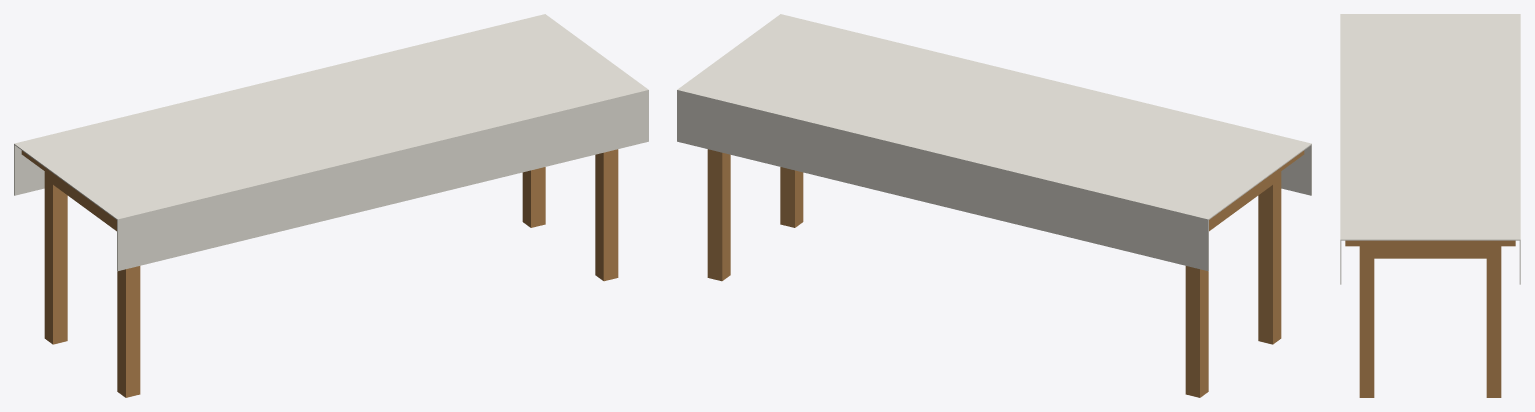
3 views of the same model, side by side, from view 1: azimuth 30°, elevation 25°; view 2: azimuth 150°, elevation 25°; view 3: azimuth 270°, elevation 25° (orthographic). The views are drawn at different scales.
Visible parts, largest first — view 1: parametric-variant-table-2nd-pub-b6a2c291ed095c5d24fb; view 2: parametric-variant-table-2nd-pub-b6a2c291ed095c5d24fb; view 3: parametric-variant-table-2nd-pub-b6a2c291ed095c5d24fb.
Boxes of the visible parts, <box> form: parametric-variant-table-2nd-pub-b6a2c291ed095c5d24fb: <box>14,14,648,397</box>; parametric-variant-table-2nd-pub-b6a2c291ed095c5d24fb: <box>677,14,1311,397</box>; parametric-variant-table-2nd-pub-b6a2c291ed095c5d24fb: <box>1340,14,1520,397</box>.
Size of the model in its own units: 2.19 by 0.754 by 0.74.
